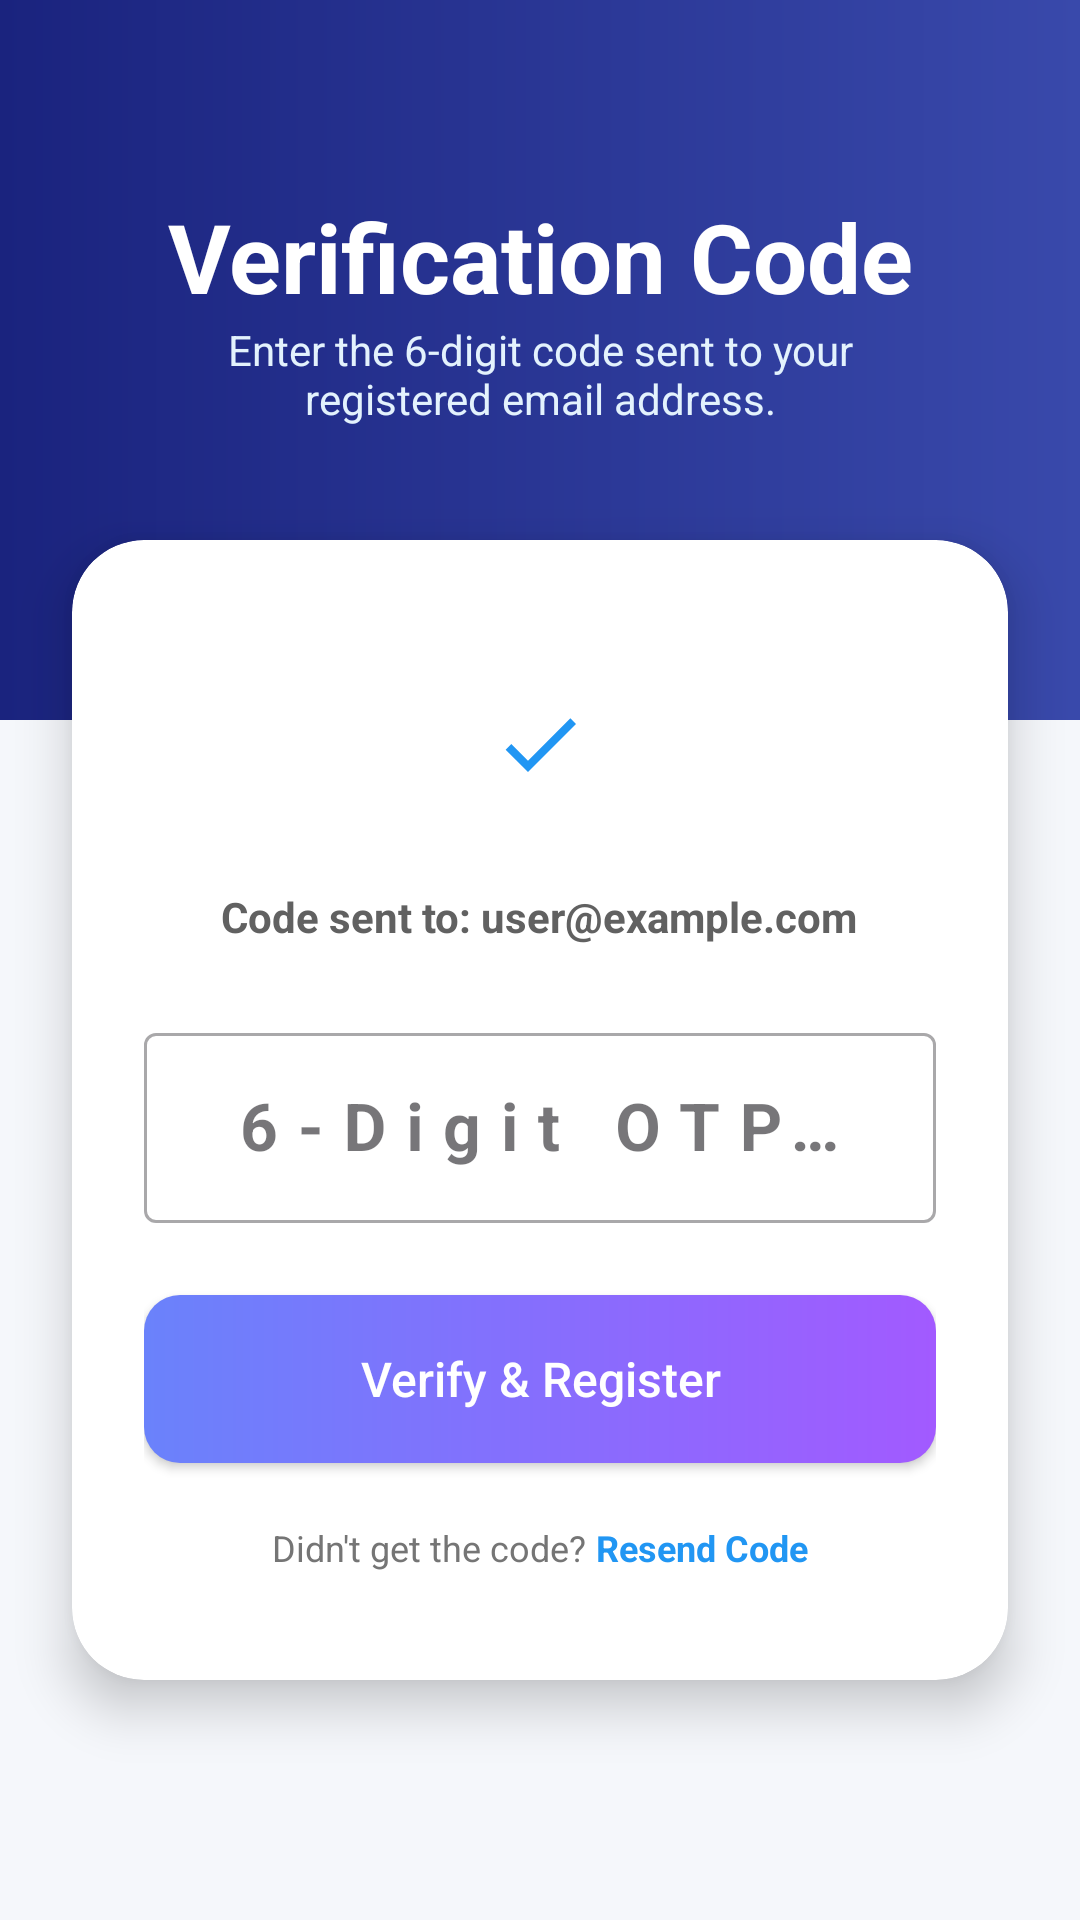

Named icons in this screenshot (1080×1920) and their centers, (x=x, y=y):
verified check: (x=540, y=745)
